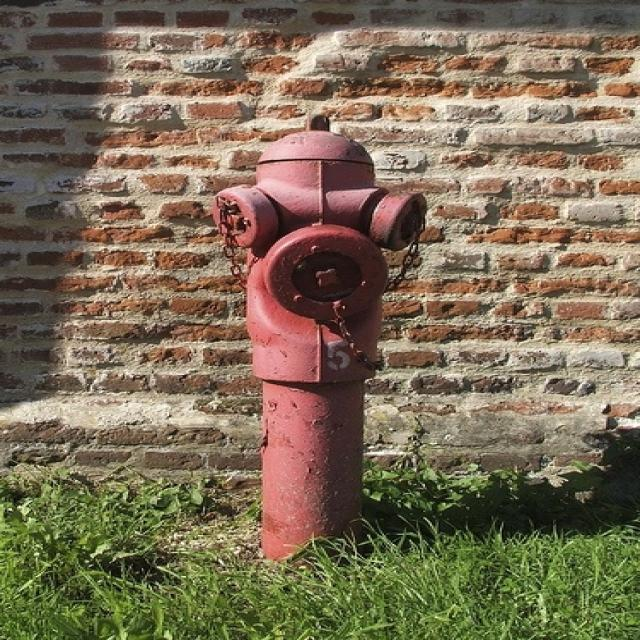fire_hydrant: (161, 111, 453, 592)
